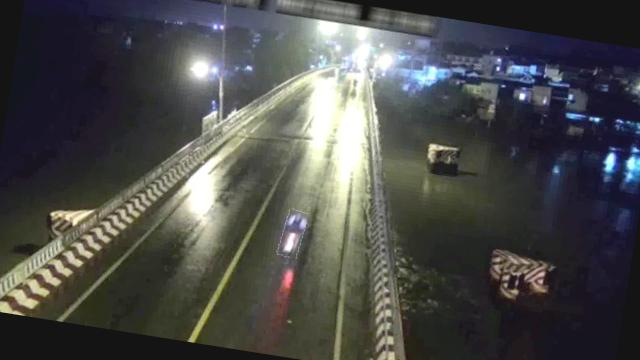Bike: (278, 208, 307, 259)
